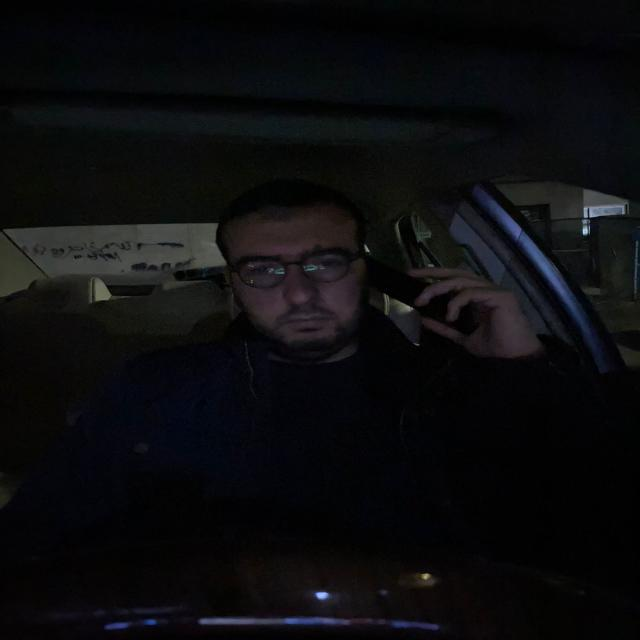phone: (366, 256, 484, 336)
